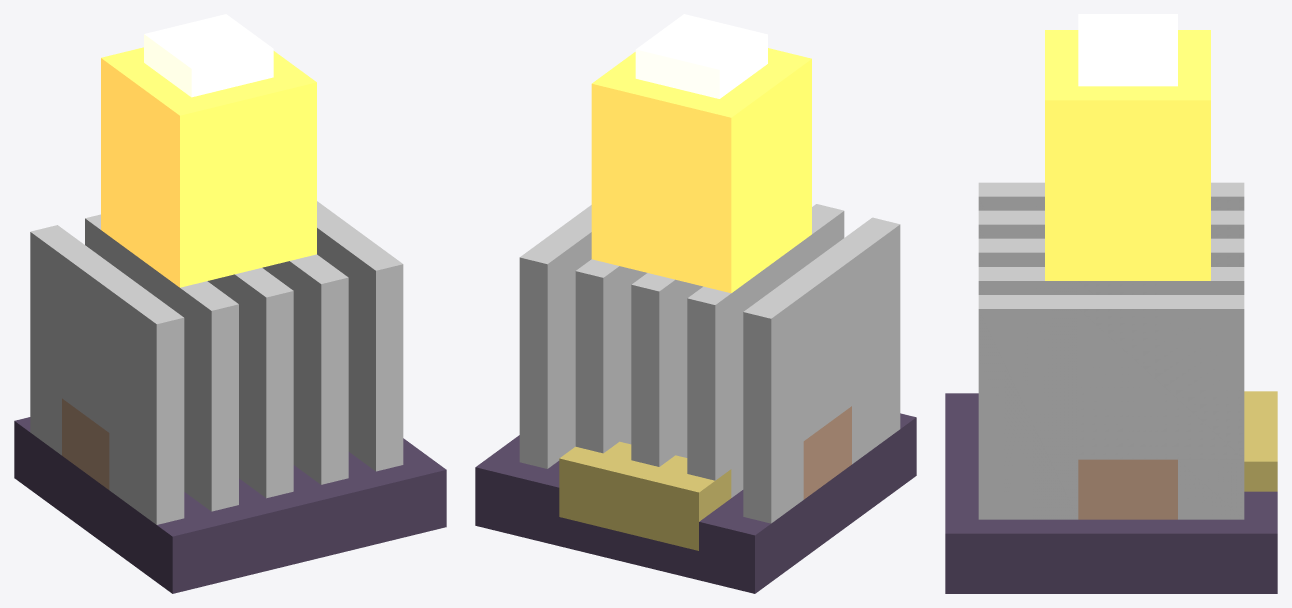
The model's file is station_thermal.glb.
3 renders of one model, left to right at view 1: azimuth 30°, elevation 25°; view 2: azimuth 150°, elevation 25°; view 3: azimuth 270°, elevation 25°, orthographic. The views are drawn at different scales.
Parts seen in each view (by area): view 1: ThermalSink, ThermalCore; view 2: ThermalSink, ThermalCore; view 3: ThermalSink, ThermalCore.
Part boxes in pixels (x1,y1,x2,y2): ThermalSink: (14, 201, 446, 593); ThermalCore: (101, 14, 316, 287); ThermalSink: (475, 204, 916, 593); ThermalCore: (591, 14, 811, 293); ThermalSink: (945, 182, 1277, 593); ThermalCore: (1045, 14, 1210, 280).
Bounding box in the file's own units: 0.1 × 0.16 × 0.1.
